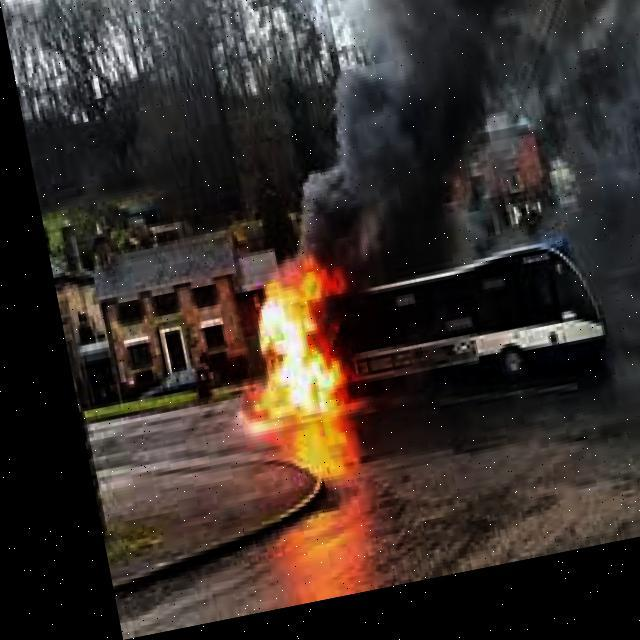Fire: (199, 259, 363, 448)
